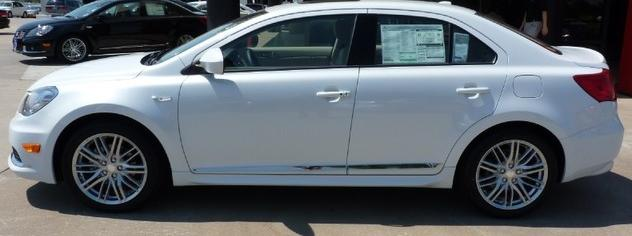backlight: (569, 61, 620, 104)
headlight: (16, 80, 71, 122)
side_glass: (190, 7, 494, 75)
